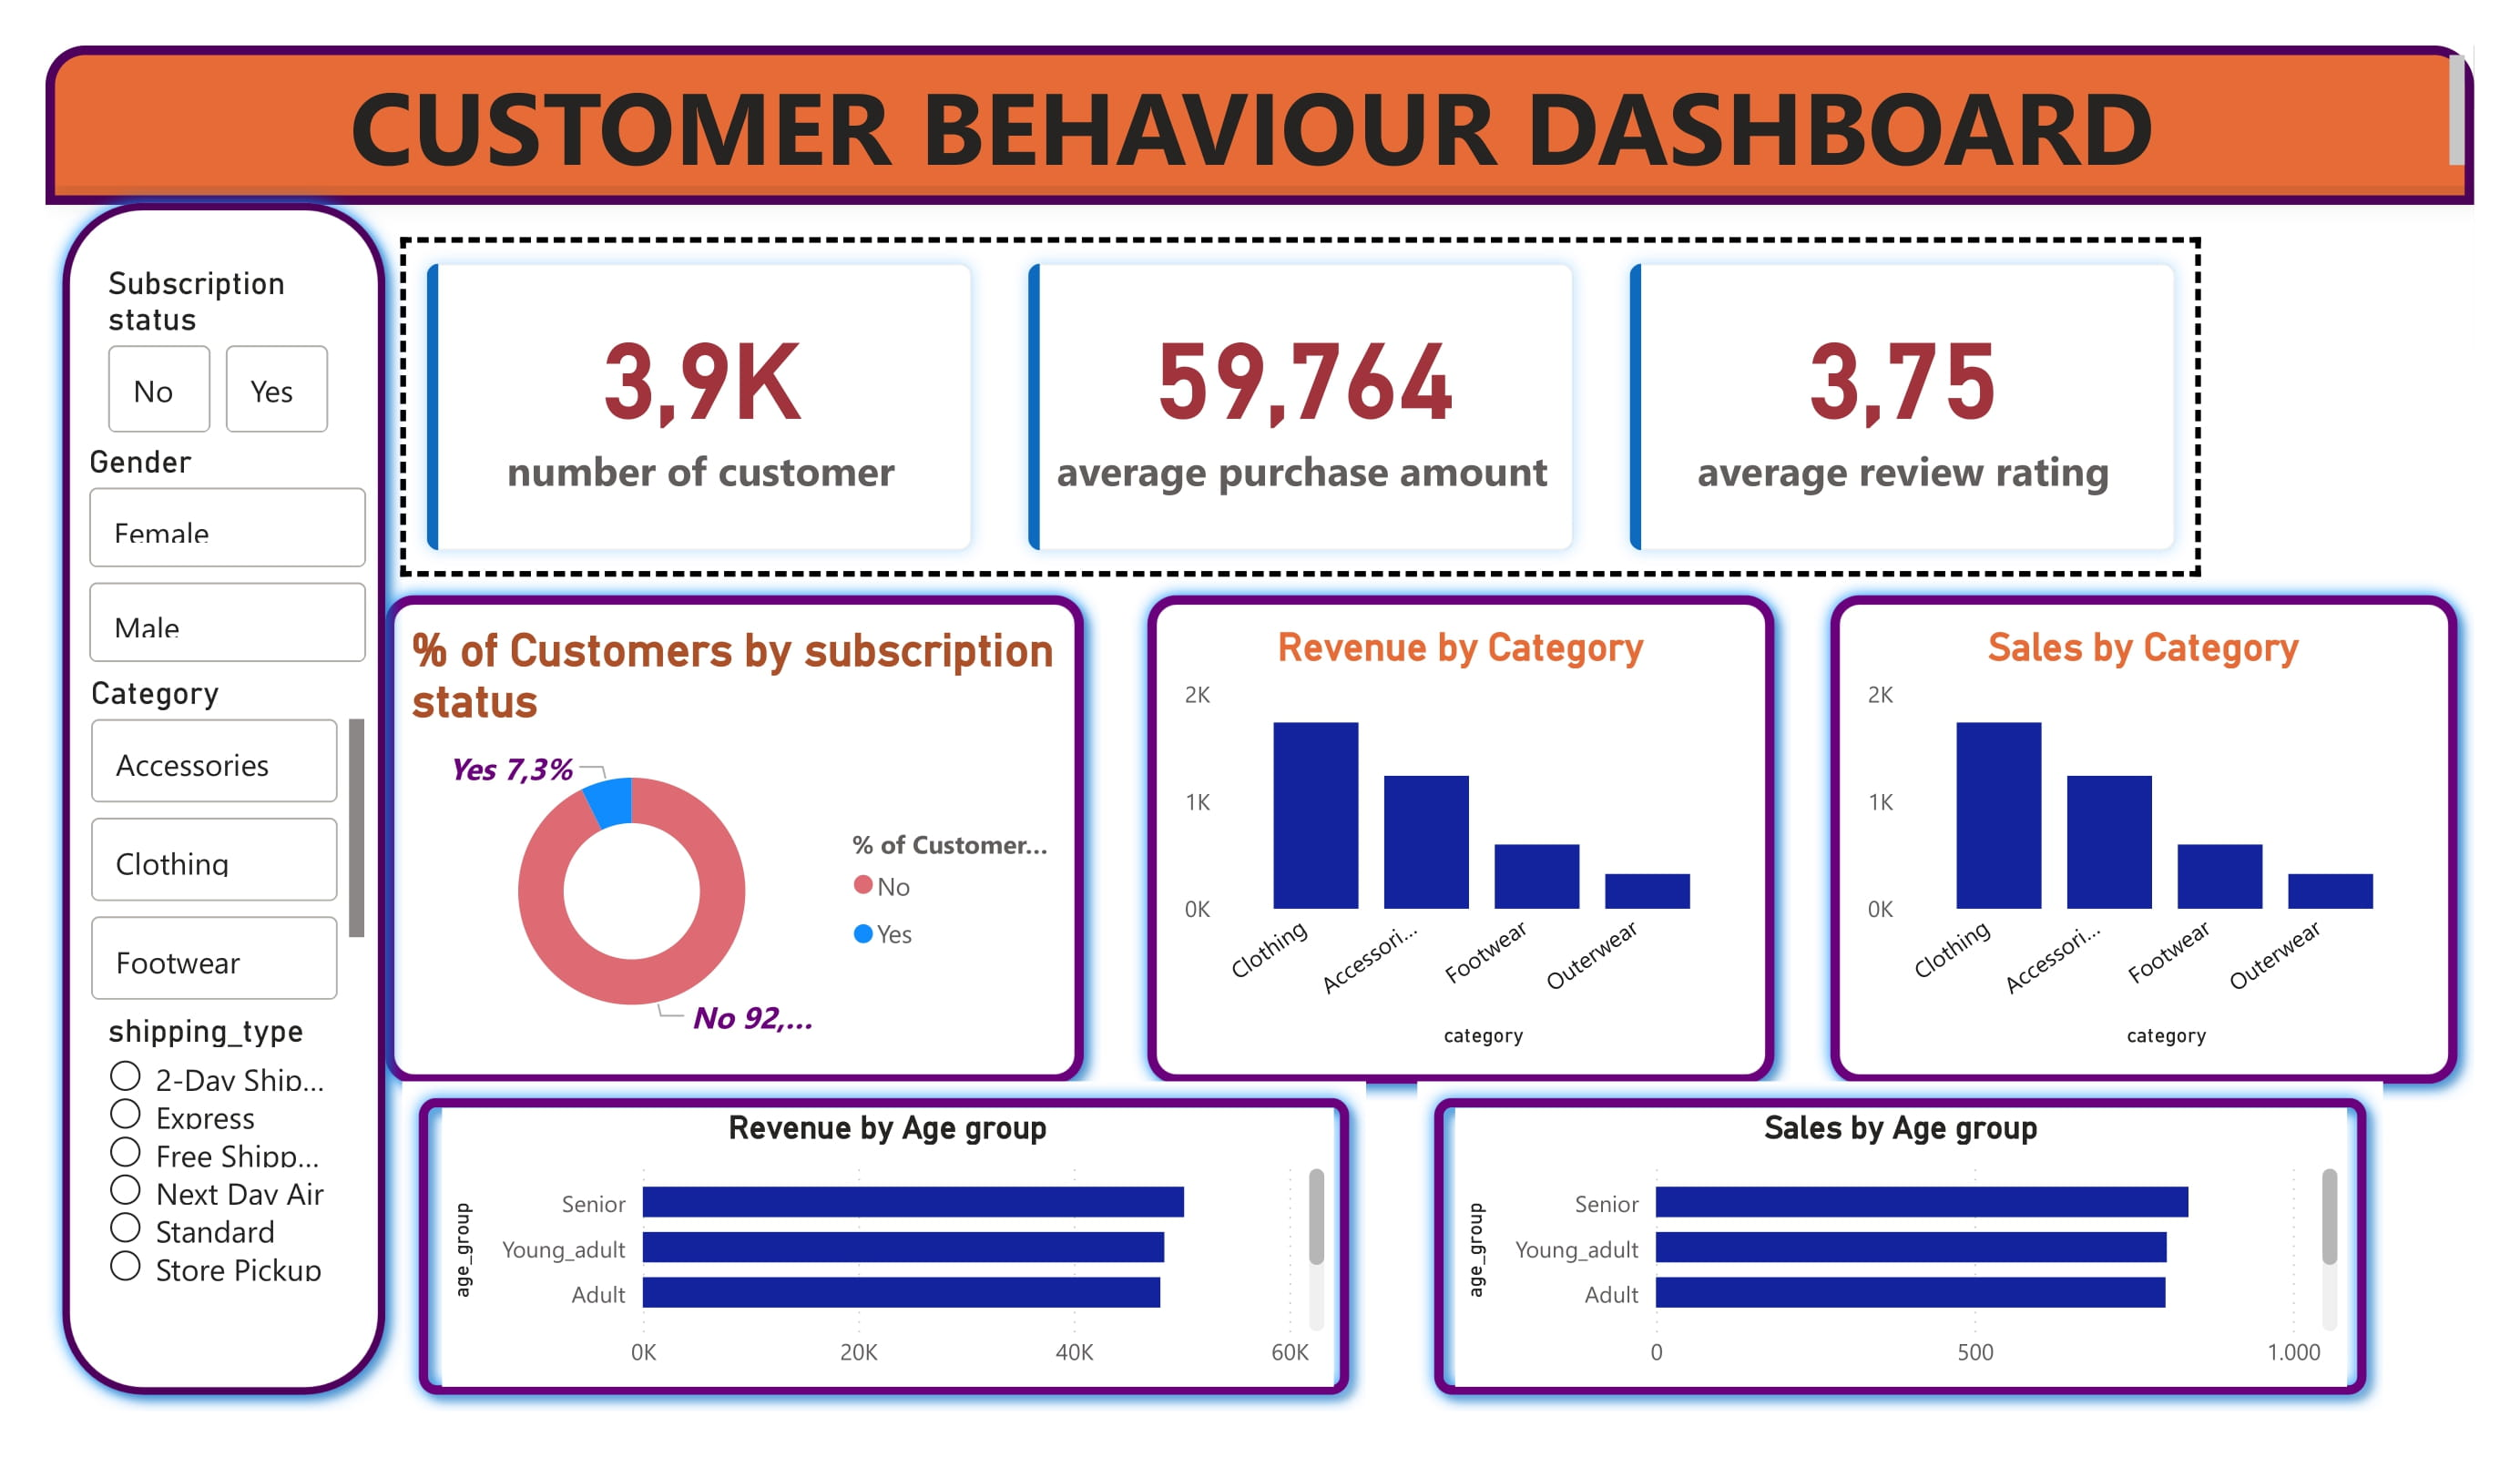

The page's visual inventory and layout, read from the dashboard file:
{"tool":"powerbi","page":{"name":"Page 1","canvas":[1280,720],"ordinal":0},"visuals":[{"type":"cardVisual","fields":{"Data":["public customer_details.number of customer","public customer_details.average purchase amount","public customer_details.average review rating"]},"box":[170,83.6,984.8,213.2],"z":0},{"type":"shape","box":[0,0,1280.3,83.7],"z":1000},{"type":"textbox","box":[0,0,1280.3,74.1],"z":2000},{"type":"shape","box":[170,280.6,385.8,275.2],"z":3000},{"type":"donutChart","title":"% of Customers by subscription status","fields":{"Category":["public customer_details.subscription_status"],"Y":["Sum(public customer_details.customer_id)"]},"box":[187.5,304.9,350.8,228],"z":4000},{"type":"shape","box":[932.2,280.6,348.1,275.2],"z":5000},{"type":"shape","box":[572,280.6,348.1,275.2],"z":6000},{"type":"clusteredColumnChart","title":"Revenue by Category","fields":{"Category":["public customer_details.category"],"Y":["CountNonNull(public customer_details.item_purchased)"]},"box":[594.9,304.9,302.2,228],"z":7000},{"type":"clusteredColumnChart","title":"Sales by Category","fields":{"Category":["public customer_details.category"],"Y":["CountNonNull(public customer_details.customer_id)"]},"box":[955.1,304.9,302.2,228],"z":8000},{"type":"shape","box":[0,74.2,187.5,646.2],"z":9000},{"type":"advancedSlicerVisual","fields":{"Values":["public customer_details.subscription_status"]},"box":[28.3,114.7,126.8,95],"z":10000},{"type":"advancedSlicerVisual","fields":{"Values":["public customer_details.gender"]},"box":[17.5,209.1,156.5,121.4],"z":11000},{"type":"advancedSlicerVisual","fields":{"Values":["public customer_details.category"]},"box":[18.9,330.5,153.8,178.1],"z":12000},{"type":"listSlicer","fields":{"Values":["public customer_details.shipping_type"]},"box":[28.3,508.6,126.8,188.9],"z":13000},{"type":"shape","box":[187.5,546.4,508.6,174],"z":14000},{"type":"clusteredBarChart","title":"Revenue by Age group","fields":{"Category":["public customer_details.age_group"],"Y":["Sum(public customer_details.purchase_amount)"]},"box":[209.1,559.9,469.5,147],"z":15000},{"type":"shape","box":[723.1,546.4,508.6,174],"z":16000},{"type":"clusteredBarChart","title":"Sales by Age group","fields":{"Category":["public customer_details.age_group"],"Y":["CountNonNull(public customer_details.customer_id)"]},"box":[743.3,559.9,469.5,147],"z":17000}]}

Visuals, with their boxes in screenshot pixels (x1, y1, x2, y2):
cardVisual - public customer_details.number of customer x public customer_details.average purchase amount: left=368, top=204, right=2237, bottom=608
shape: left=46, top=46, right=2474, bottom=204
textbox: left=46, top=46, right=2474, bottom=186
shape: left=368, top=578, right=1100, bottom=1100
"% of Customers by subscription status" donutChart: left=402, top=624, right=1067, bottom=1056
shape: left=1814, top=578, right=2474, bottom=1100
shape: left=1131, top=578, right=1791, bottom=1100
"Revenue by Category" clusteredColumnChart: left=1175, top=624, right=1748, bottom=1056
"Sales by Category" clusteredColumnChart: left=1858, top=624, right=2432, bottom=1056
shape: left=46, top=187, right=402, bottom=1411
advancedSlicerVisual - public customer_details.subscription_status: left=99, top=263, right=340, bottom=443
advancedSlicerVisual - public customer_details.gender: left=78, top=443, right=376, bottom=673
advancedSlicerVisual - public customer_details.category: left=81, top=673, right=373, bottom=1011
listSlicer - public customer_details.shipping_type: left=99, top=1011, right=340, bottom=1369
shape: left=402, top=1082, right=1366, bottom=1411
"Revenue by Age group" clusteredBarChart: left=443, top=1107, right=1333, bottom=1387
shape: left=1418, top=1082, right=2382, bottom=1411
"Sales by Age group" clusteredBarChart: left=1456, top=1107, right=2347, bottom=1387
